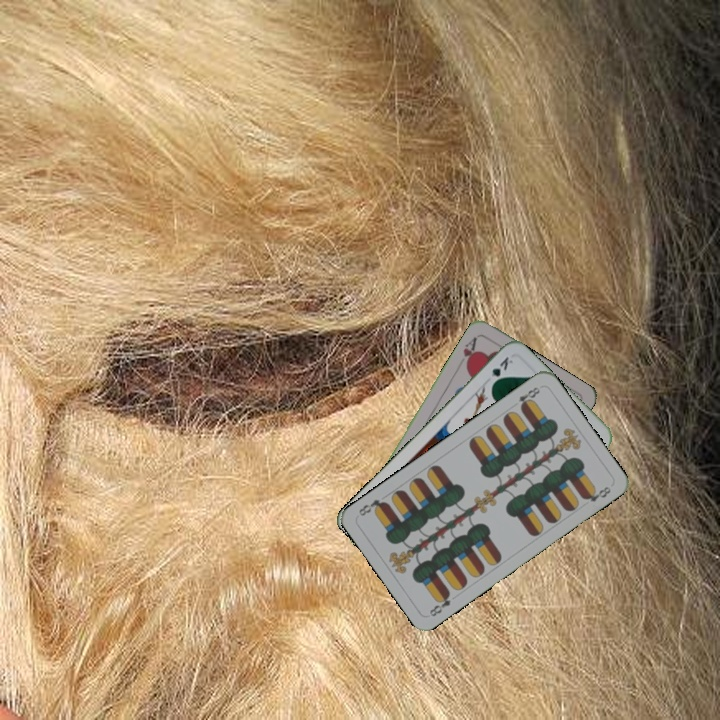E8: (425, 588, 454, 619), (514, 383, 542, 412)
GK: (487, 352, 515, 388)
HA: (454, 333, 480, 372)
